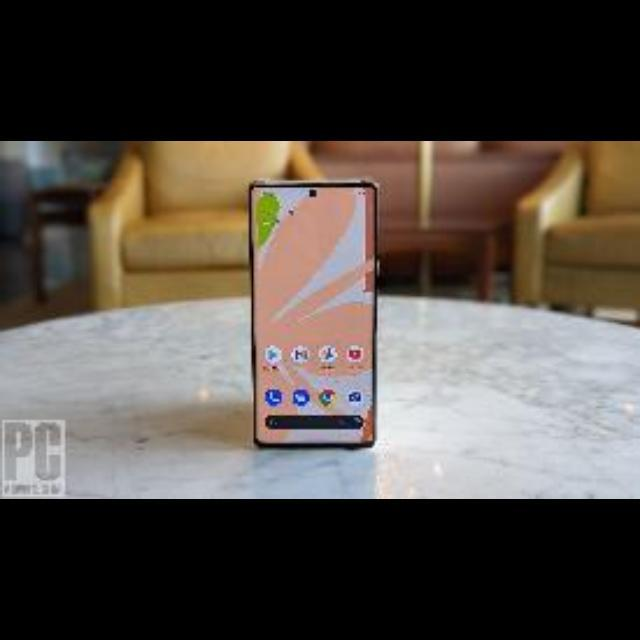Phone: (252, 182, 376, 450)
